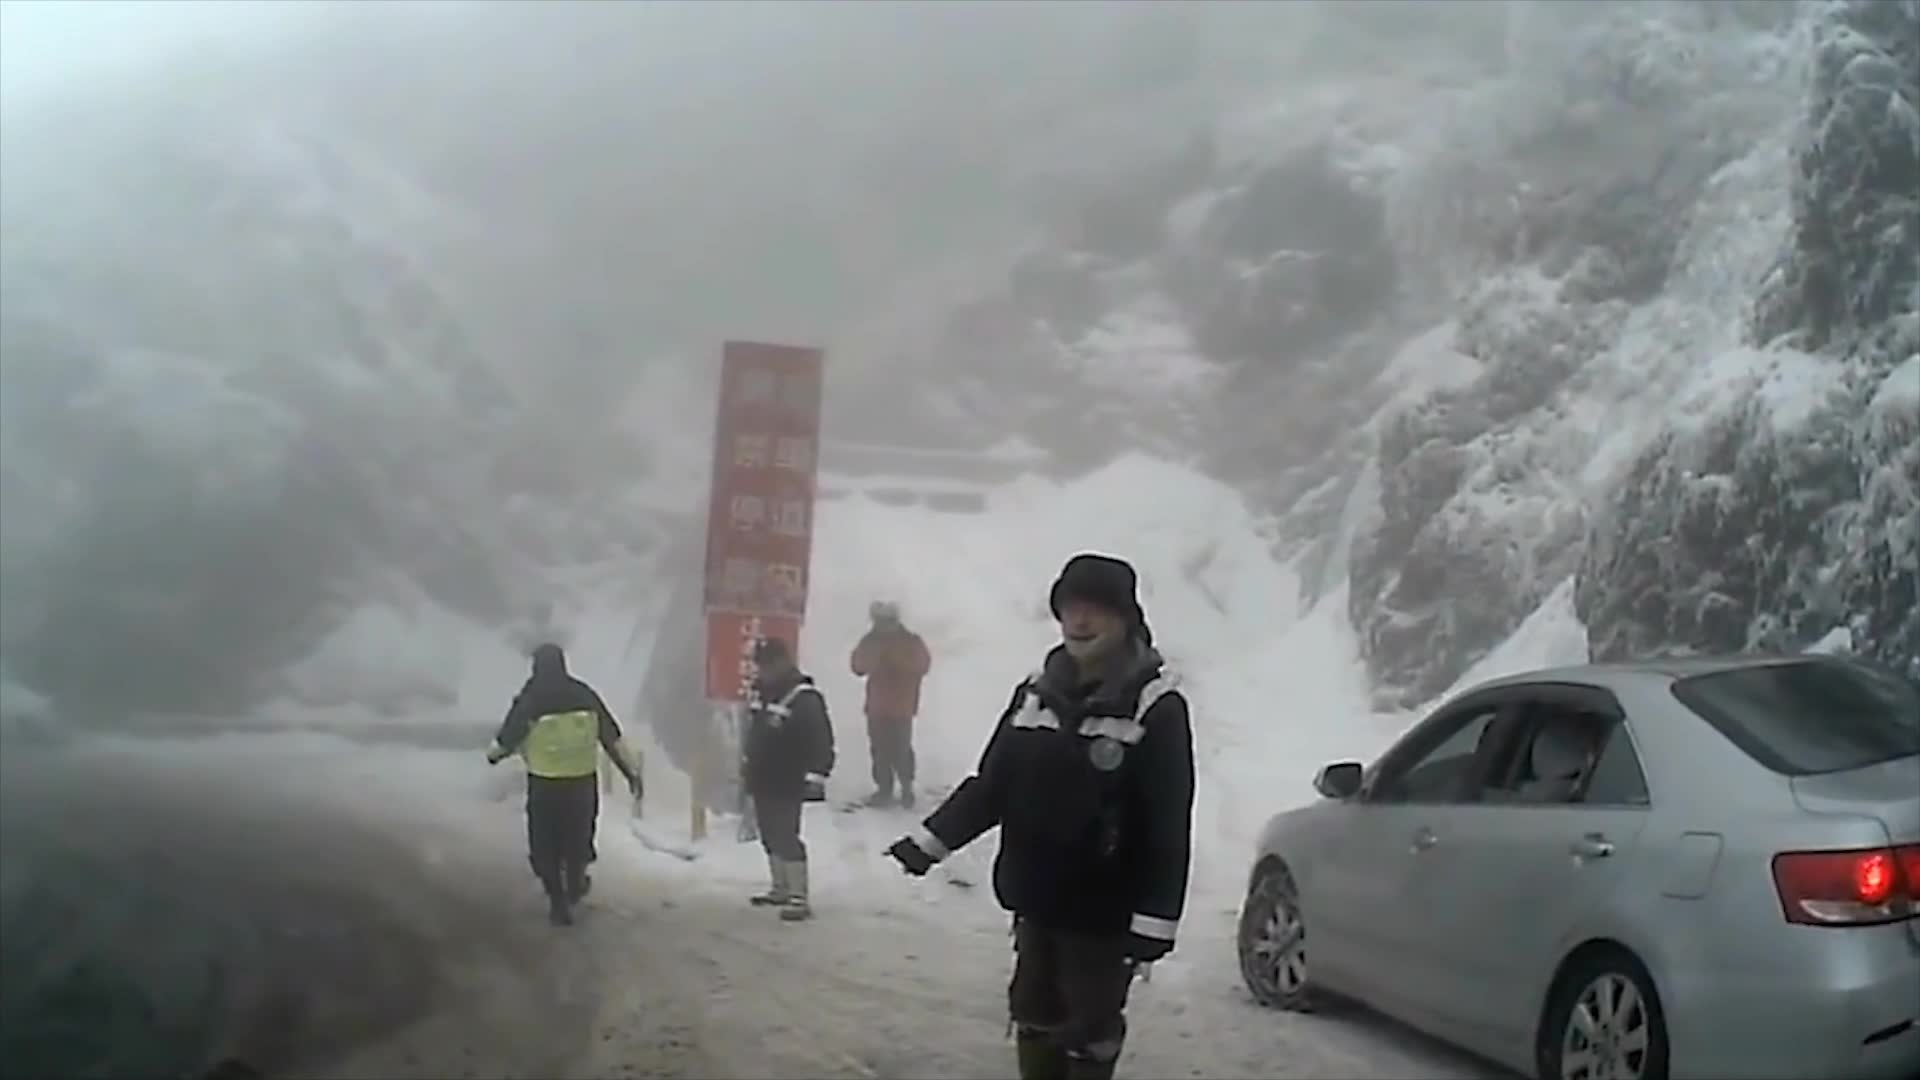pedestrian: (891, 554, 1192, 1080), (490, 646, 646, 930), (742, 636, 836, 919), (845, 603, 930, 809)
vehicle: (1232, 655, 1920, 1080)
